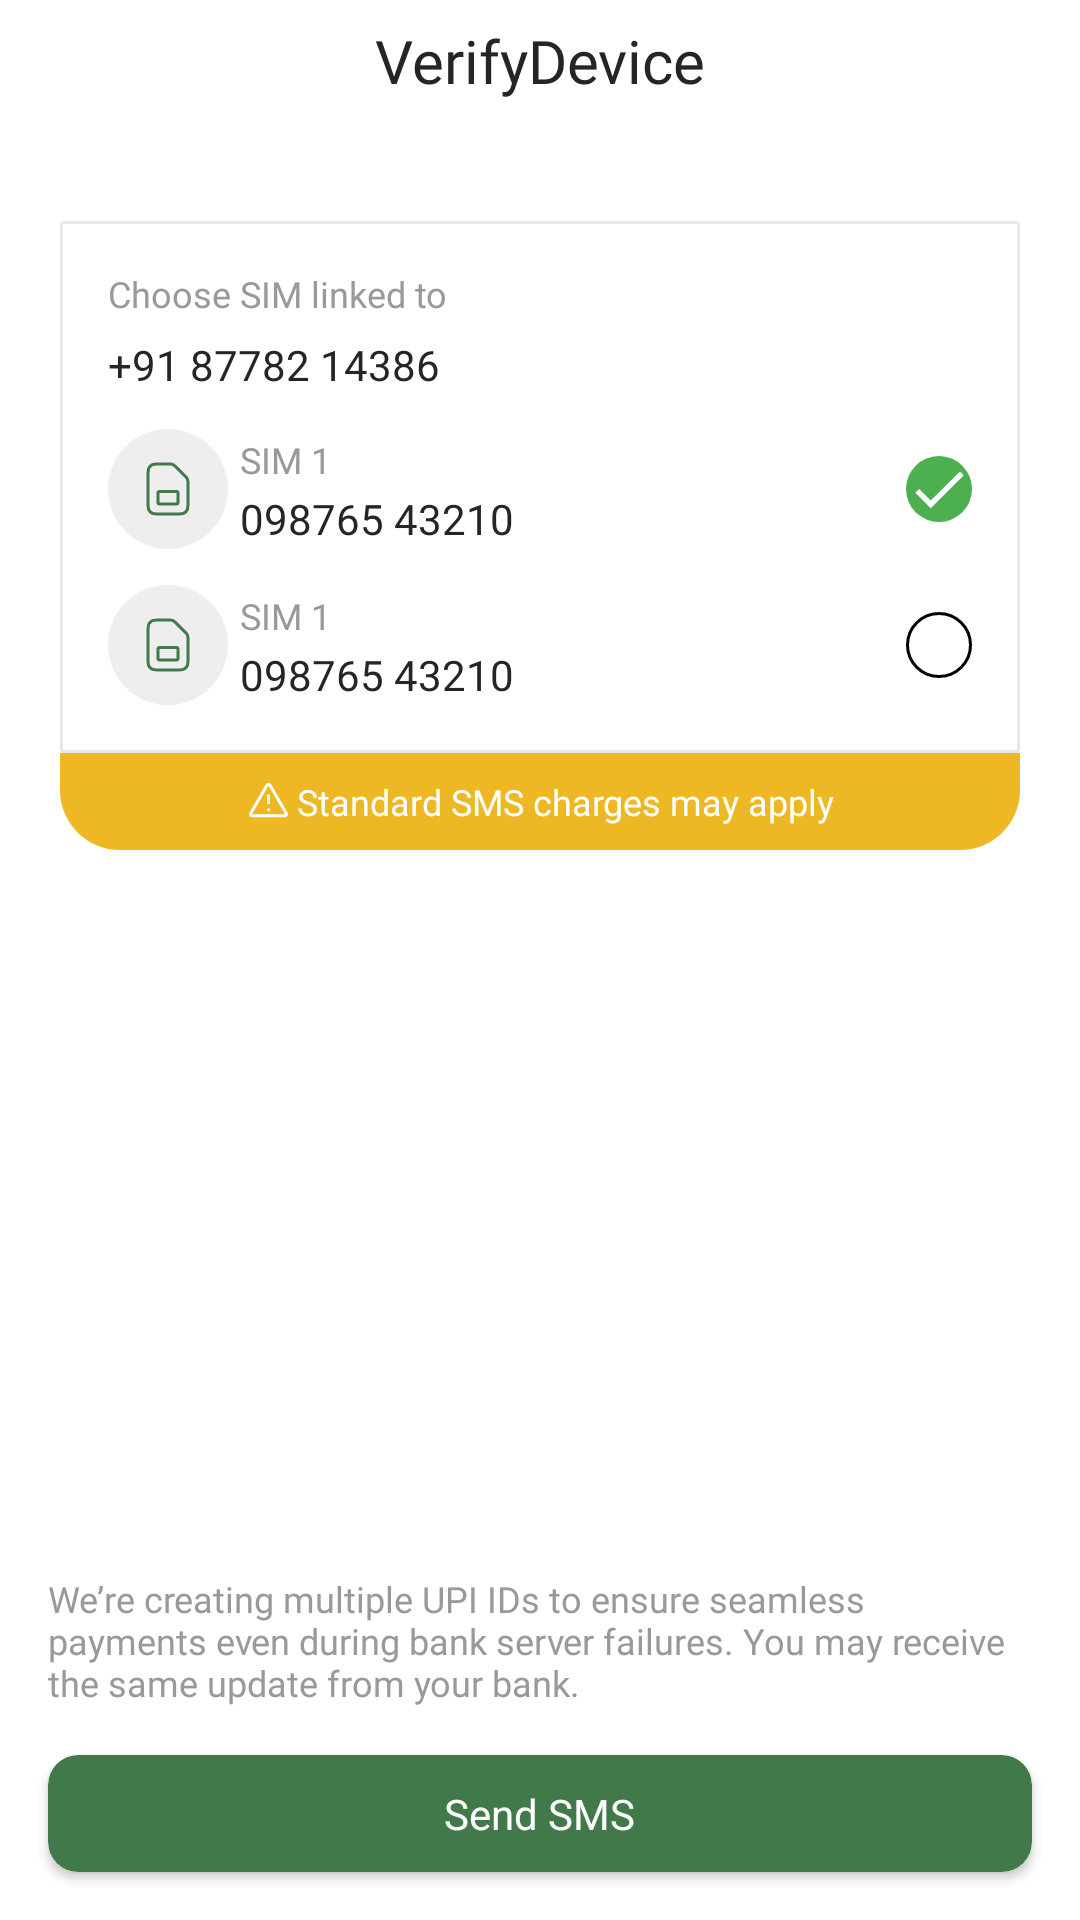

Named icons in this screenshot (1080*1920) and their centers, (x,y):
sim slot: (168,489), (168,645)
